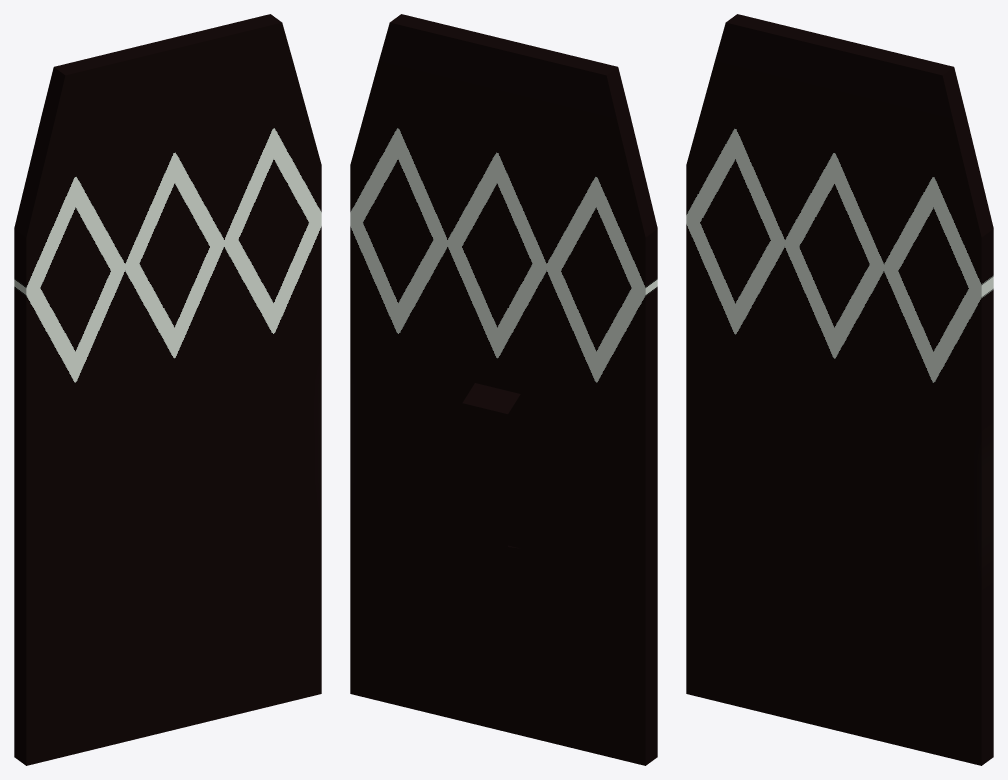
File: yayoi_s_tedate_b.dae
3 renders of one model, left to right at view 1: azimuth 30°, elevation 25°; view 2: azimuth 150°, elevation 25°; view 3: azimuth 330°, elevation 25°, orthographic.
Visible parts, largest first — view 1: shield_tedate_b; view 2: shield_tedate_b; view 3: shield_tedate_b.
Boxes of the visible parts, <box> form: shield_tedate_b: <box>14,14,321,765</box>; shield_tedate_b: <box>350,14,657,765</box>; shield_tedate_b: <box>686,14,993,765</box>.
Bounding box in the file's own units: 1.04 × 0.1517 × 2.29.
1 material, 1 textured.
